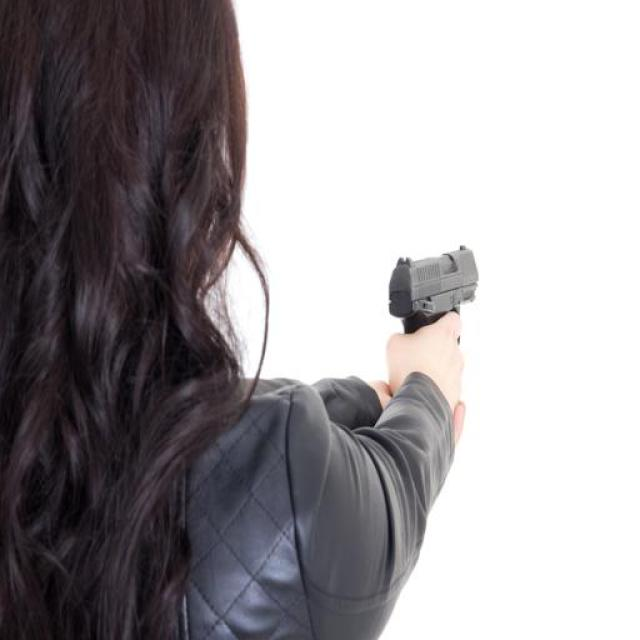pistol: (378, 223, 499, 408)
